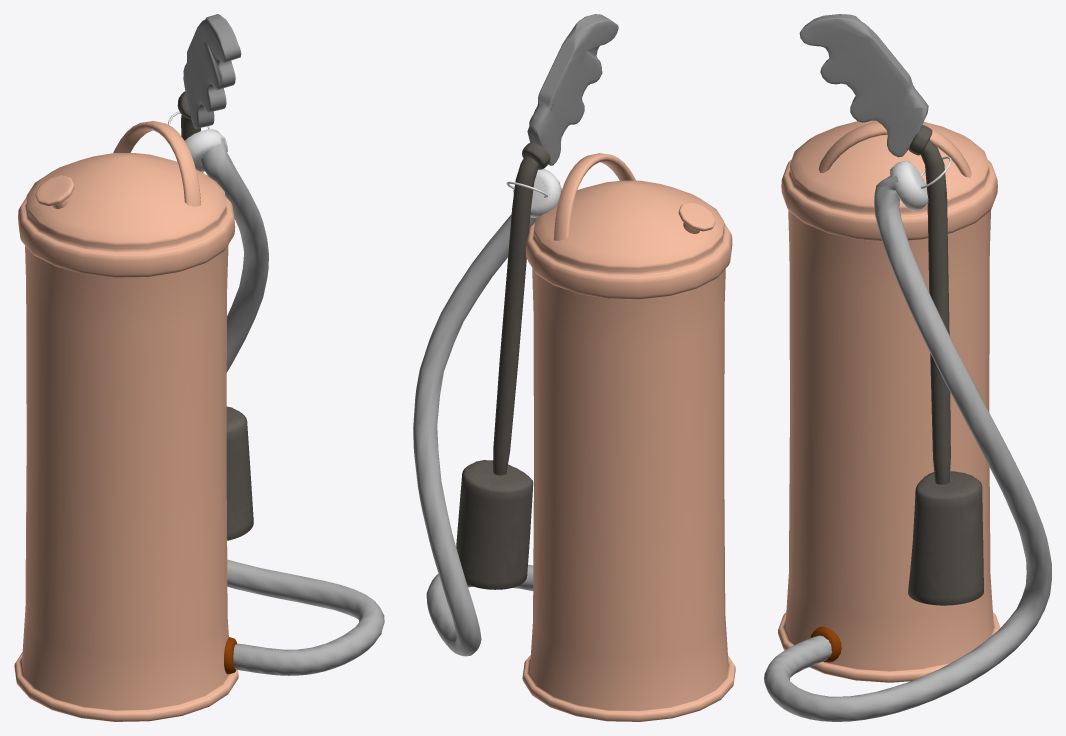
Rendered from GLB_Ontario_FlameThrower.glb.
3 renders of one model, left to right at view 1: azimuth 30°, elevation 25°; view 2: azimuth 150°, elevation 25°; view 3: azimuth 270°, elevation 25°, orthographic. The views are drawn at different scales.
Parts seen in each view (by area): view 1: pCylinder7; view 2: pCylinder7; view 3: pCylinder7.
Part boxes in pixels (x1=…): pCylinder7: x1=14, y1=14, x2=384, y2=721; pCylinder7: x1=413, y1=14, x2=735, y2=721; pCylinder7: x1=764, y1=14, x2=1051, y2=721.
Bounding box in the file's own units: 1.98 × 3.85 × 1.54.
5 materials, 2 textured.
